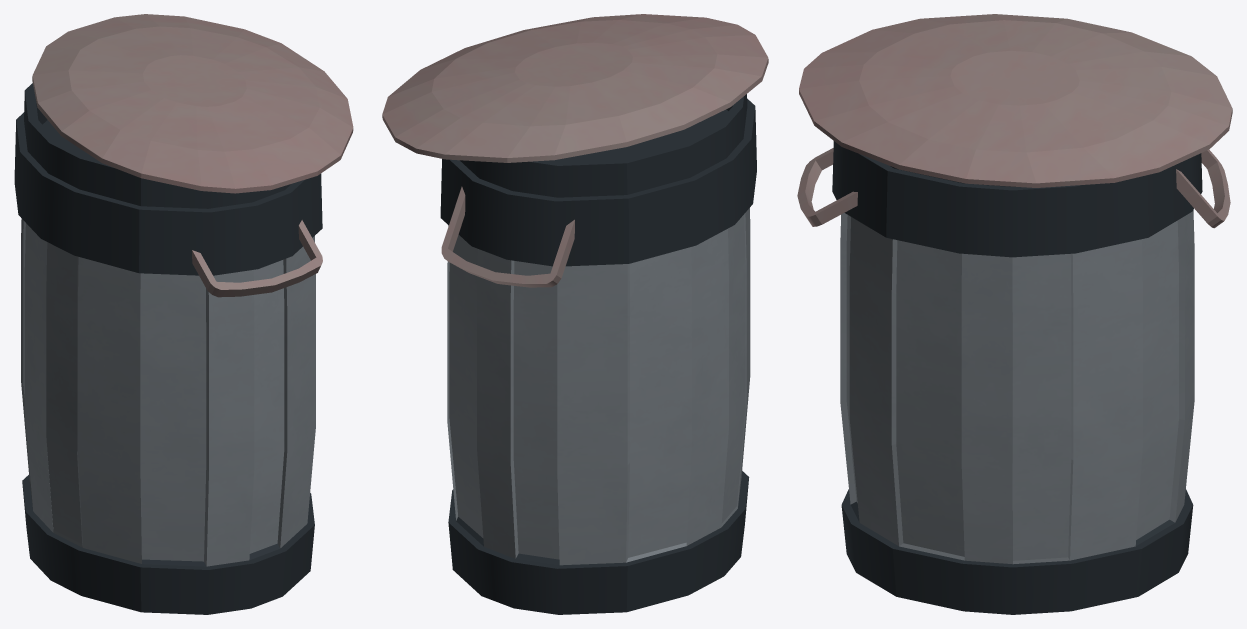
The model's file is garbage can.fbx.
3 views of the same model, side by side, from view 1: azimuth 30°, elevation 25°; view 2: azimuth 150°, elevation 25°; view 3: azimuth 270°, elevation 25° (orthographic). The views are drawn at different scales.
Parts seen in each view (by area): view 1: pCube7; view 2: pCube7; view 3: pCube7.
Part boxes in pixels (<box>): pCube7: <box>14,14,353,614</box>; pCube7: <box>382,14,768,614</box>; pCube7: <box>797,14,1232,614</box>.
Bounding box in the file's own units: 11.6 × 17.57 × 14.08.
